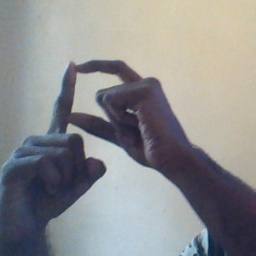D: (25, 56, 159, 177)
